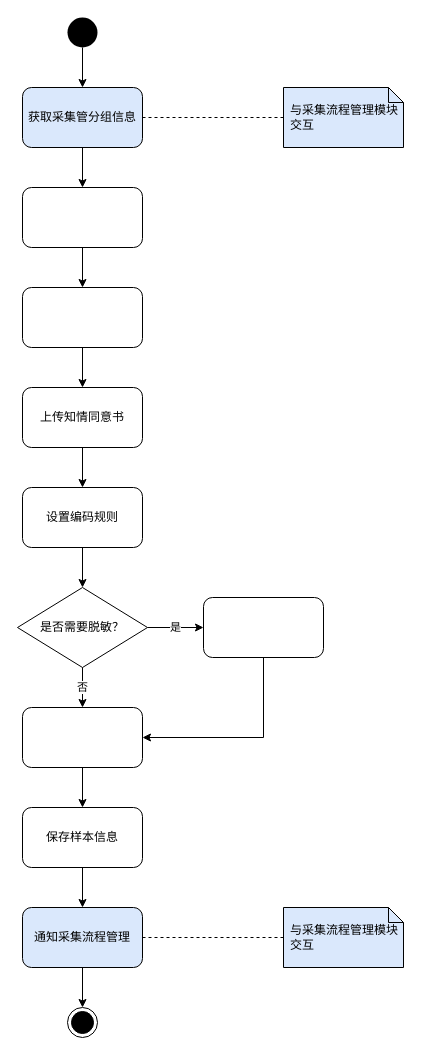
Some shapes in this 421 by 1055 pixel diagram are drawn without their labels. Each missing label, with the centre of its shape:
"关联捐献者信息" belongs at point 82,317.
"执行数据脱敏" belongs at point 263,627.
"生成样本编号" belongs at point 82,737.
"输入样本基础信息" belongs at point 82,217.
